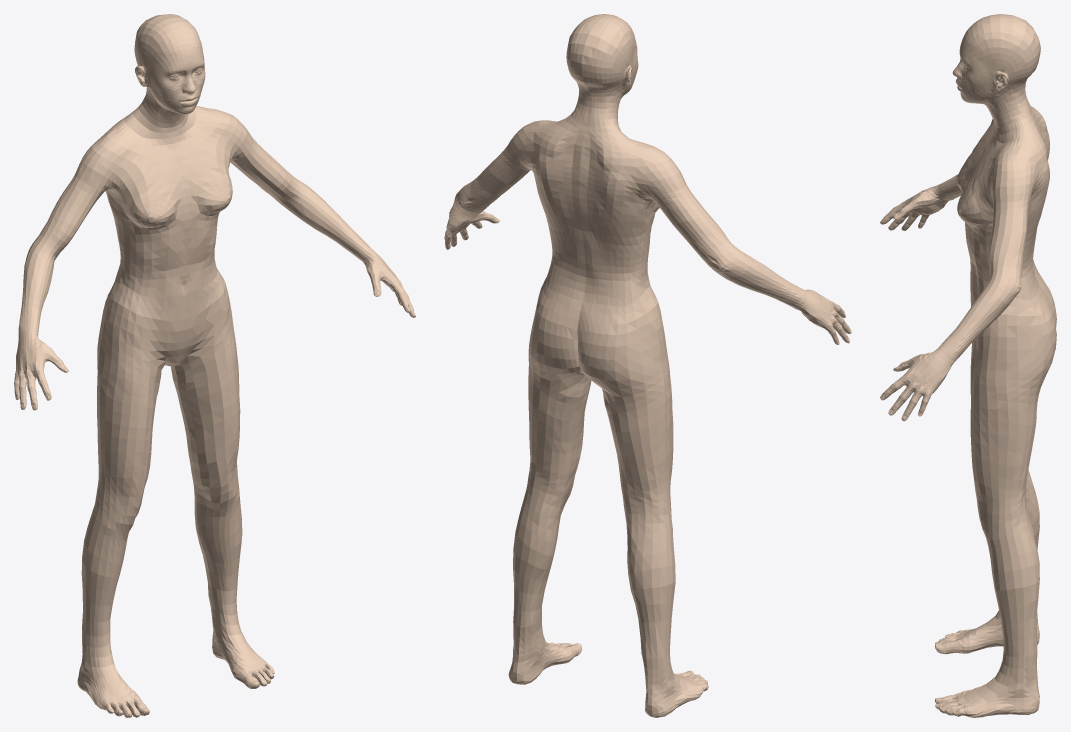
Rendered from female-adult-lean-strong.glb.
The picture shows the model from 3 angles, left to right: view 1: azimuth 30°, elevation 25°; view 2: azimuth 150°, elevation 25°; view 3: azimuth 270°, elevation 25°; orthographic projection.
Visible parts, largest first — view 1: world; view 2: world; view 3: world.
Part boxes in pixels (left/top/right/bottom): world: left=14, top=14, right=415, bottom=717; world: left=444, top=14, right=851, bottom=717; world: left=880, top=14, right=1056, bottom=717.
Bounding box in the file's own units: 1.12 × 1.81 × 0.4379.
